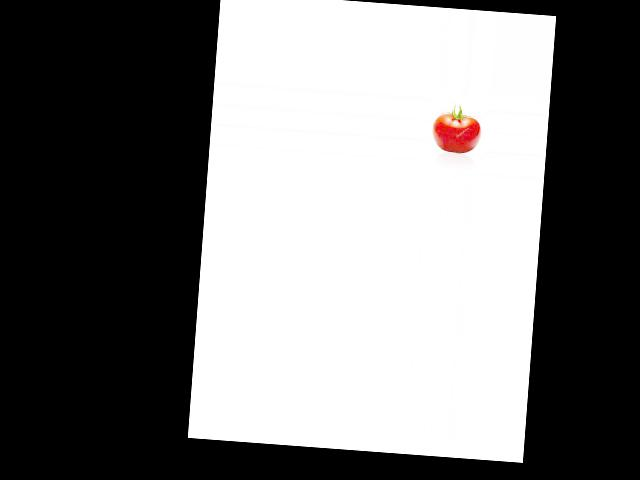tomato: (430, 112, 483, 154)
